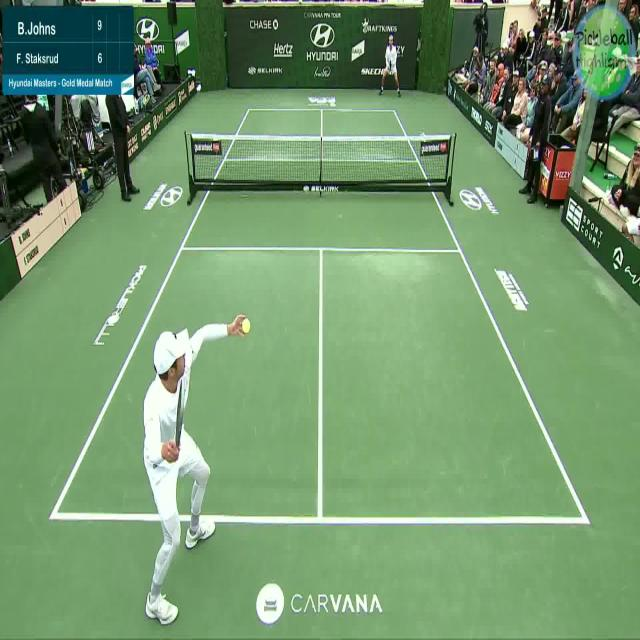Court: (55, 108, 587, 526)
ball: (241, 317, 253, 337)
